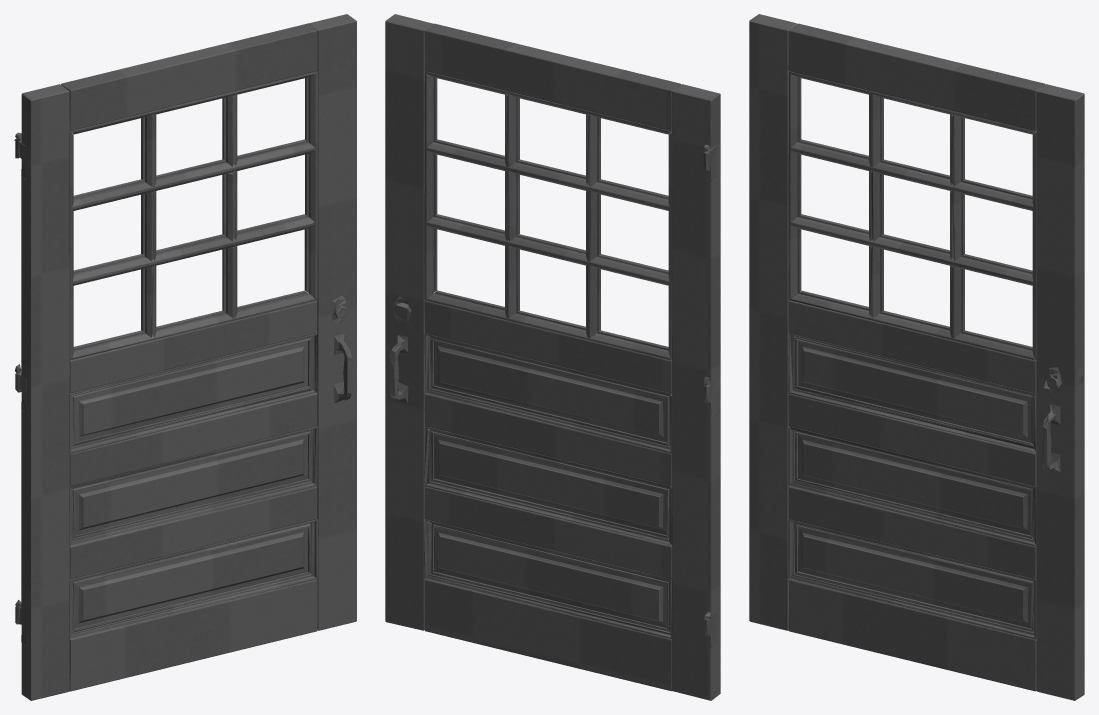
Rendered from SM_BackDoor_A_Door3.glb.
3 renders of one model, left to right at view 1: azimuth 30°, elevation 25°; view 2: azimuth 150°, elevation 25°; view 3: azimuth 330°, elevation 25°, orthographic.
Parts seen in each view (by area): view 1: SM_BackDoor_A_Door3; view 2: SM_BackDoor_A_Door3; view 3: SM_BackDoor_A_Door3.
Part boxes in pixels (left/top/right/bottom): SM_BackDoor_A_Door3: left=14, top=14, right=356, bottom=700; SM_BackDoor_A_Door3: left=385, top=14, right=720, bottom=700; SM_BackDoor_A_Door3: left=749, top=14, right=1084, bottom=700.
Bounding box in the file's own units: 126 × 220 × 21.98.
1 material, 1 textured.
